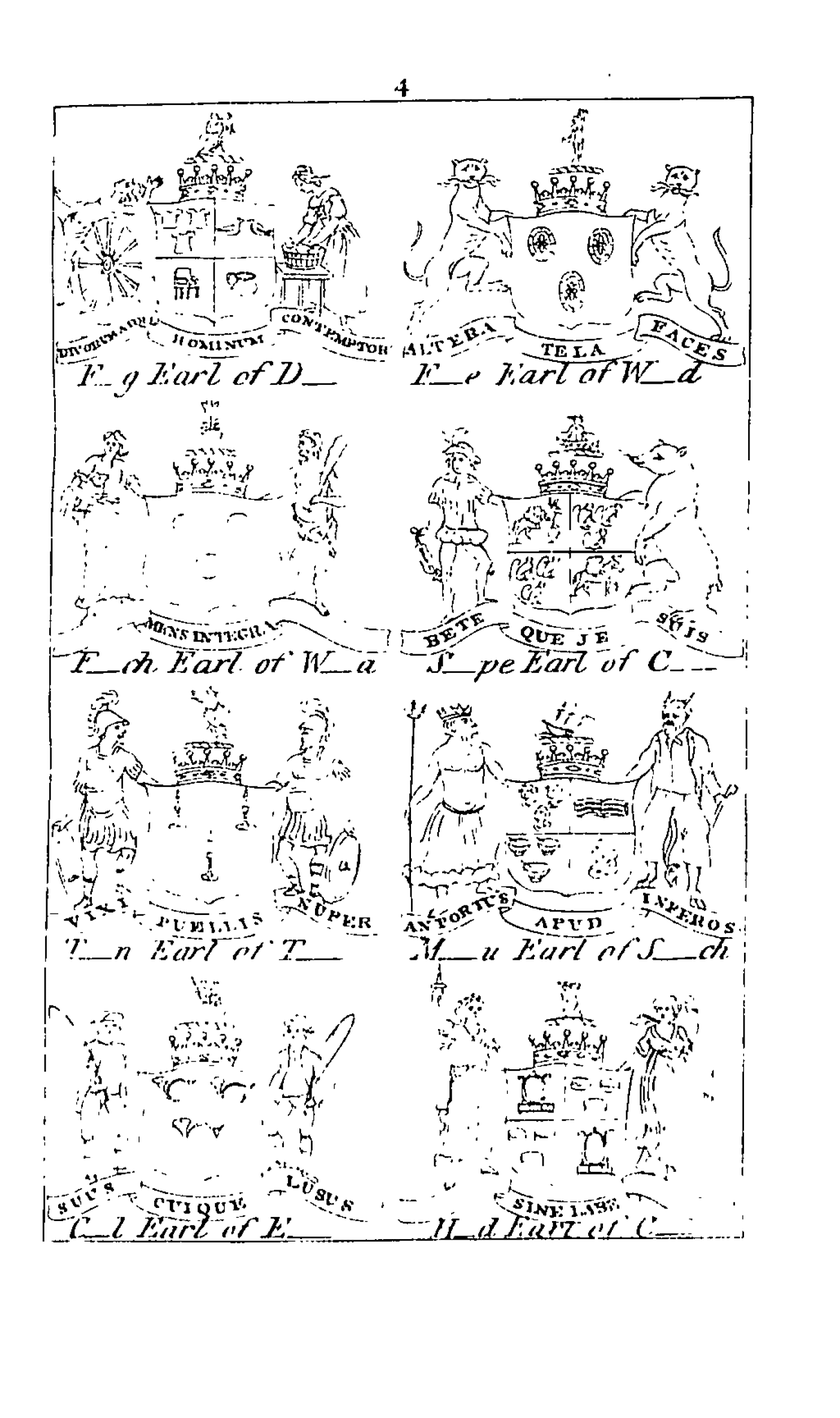coat_of_arms: (368, 950, 742, 1240), (385, 384, 745, 679), (394, 683, 751, 968), (391, 102, 740, 392), (49, 110, 388, 396), (55, 399, 386, 685), (44, 974, 376, 1242), (61, 689, 386, 961)
